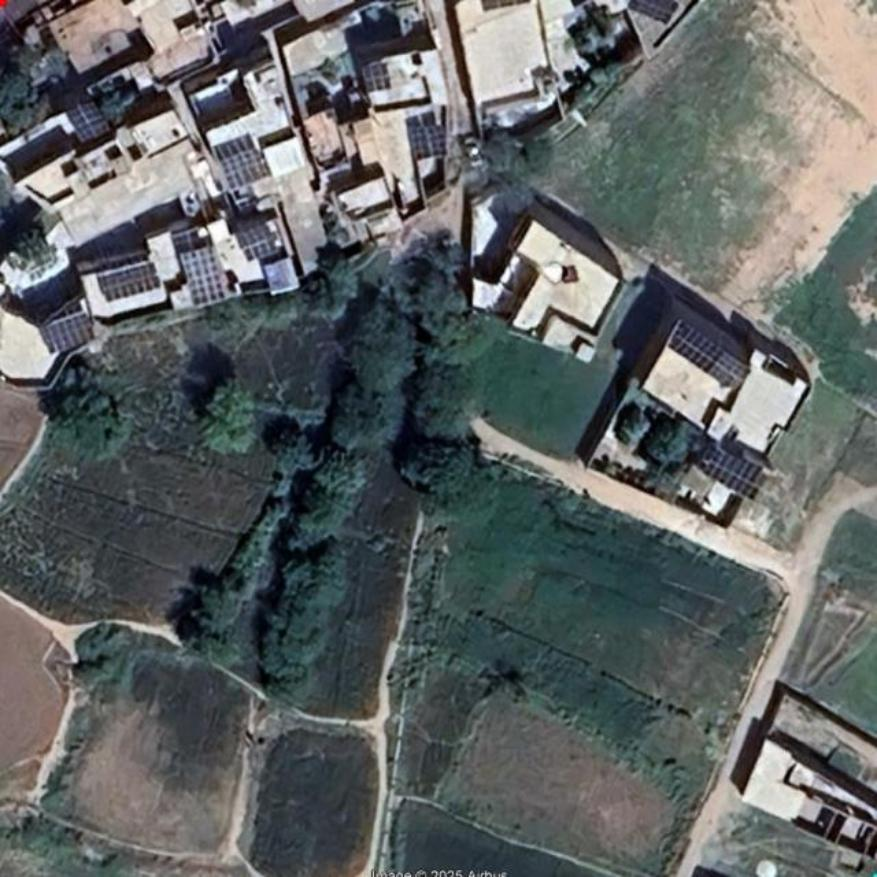Solarpanel: (669, 316, 750, 390), (700, 447, 769, 502), (179, 244, 232, 306), (95, 260, 164, 301), (40, 309, 96, 356), (222, 145, 273, 191), (66, 100, 115, 146), (234, 220, 283, 260), (405, 122, 445, 160), (626, 0, 679, 27), (360, 61, 395, 91)
